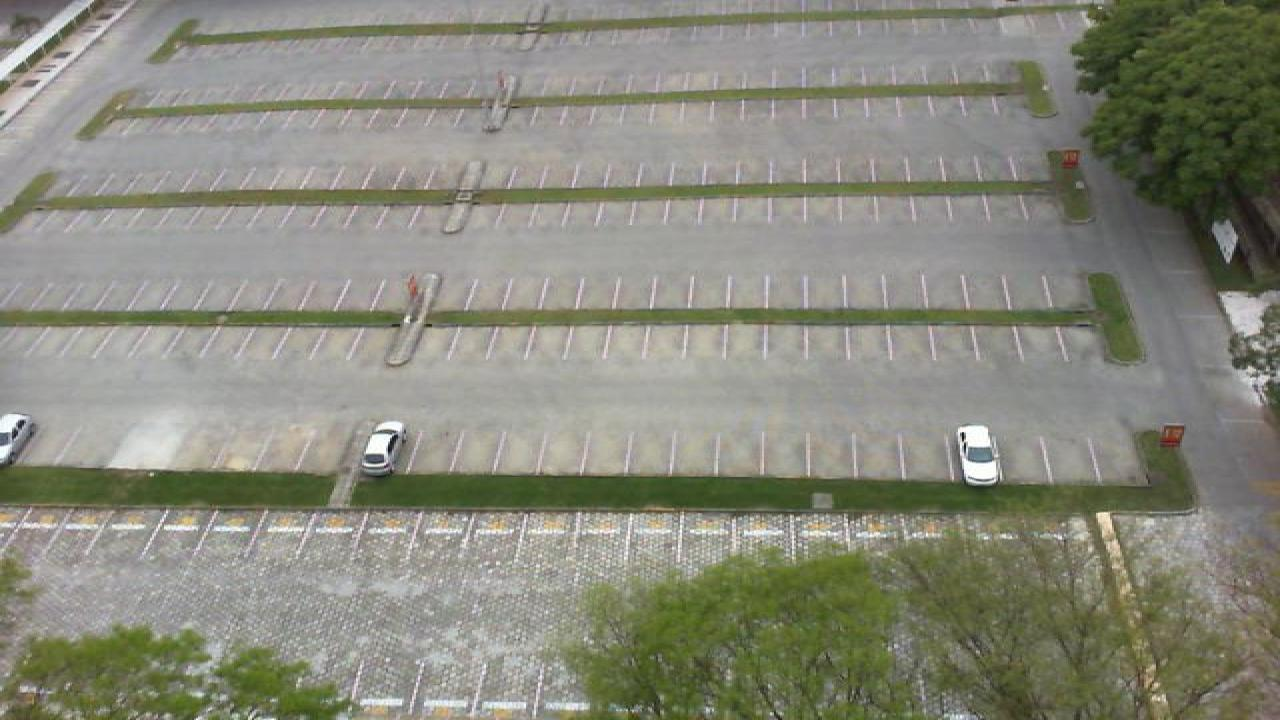Car: (954, 423, 1002, 487), (358, 420, 406, 477), (0, 413, 34, 468)
